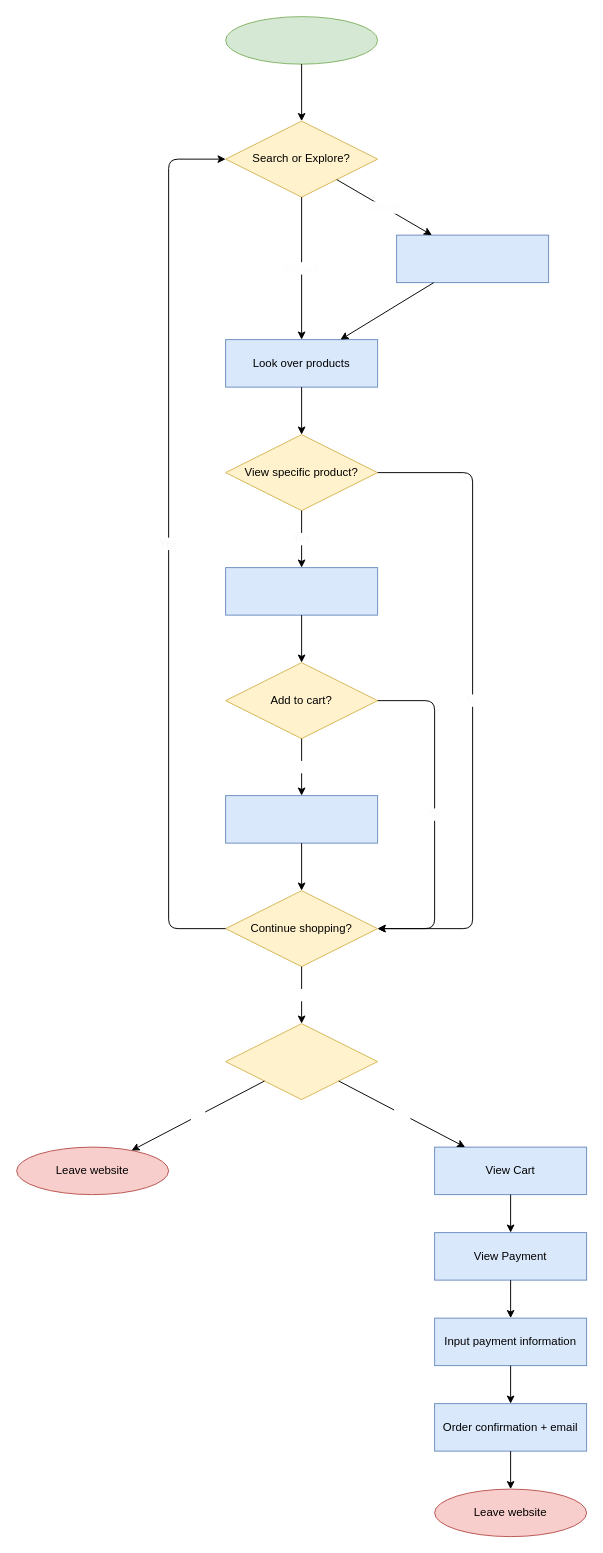
Some shapes in this 603 by 1553 pixel diagram are drawn without their labels. Here are the shapes that lost their labels. From the top down, the box of each, then its label:
(225, 16, 378, 64): Enter website
(396, 234, 549, 283): Provide search input
(225, 567, 378, 615): Open product page
(225, 795, 378, 843): Cart confirmation
(225, 1023, 378, 1100): Checkout?
